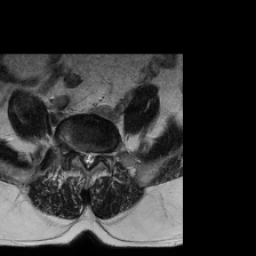CCS_normal: (85, 145, 90, 174)
LFS_severe_stenosis: (96, 144, 102, 162)
LLS_stenosis: (90, 145, 96, 169)
RFS_stenosis: (74, 142, 80, 160)
RLS_severe_stenosis: (80, 143, 85, 166)
